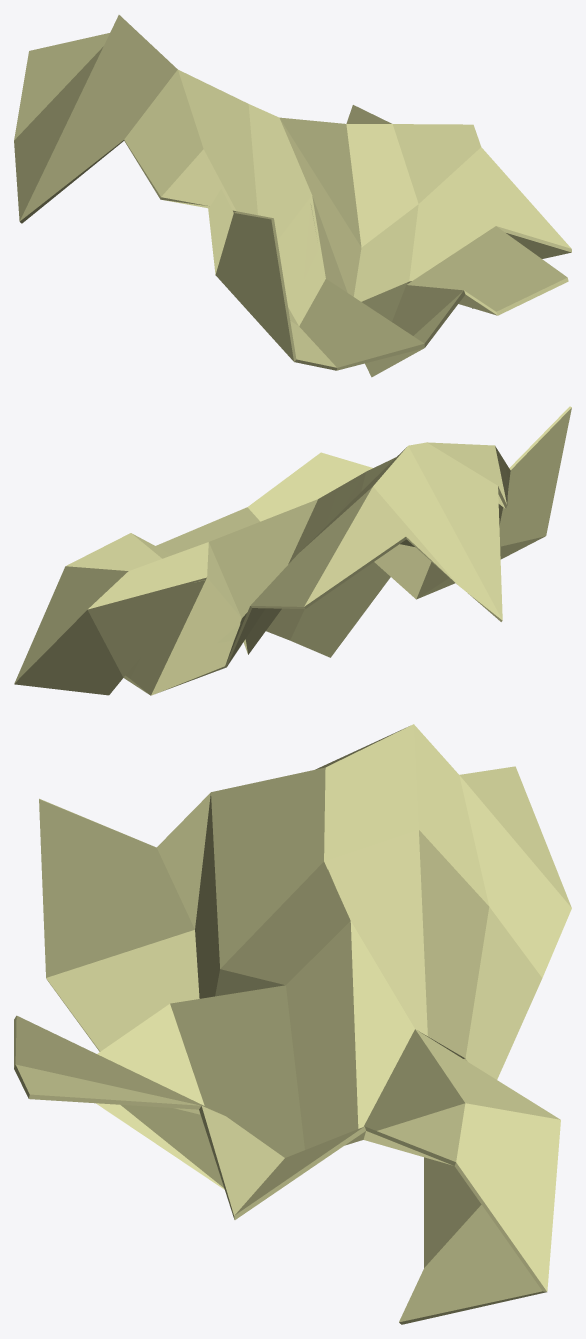
The model's file is Paper3.fbx.
3 renders of one model, top to bottom at view 1: azimuth 30°, elevation 25°; view 2: azimuth 150°, elevation 25°; view 3: azimuth 270°, elevation 25°, orthographic. The views are drawn at different scales.
Visible parts, largest first — view 1: Plane.002; view 2: Plane.002; view 3: Plane.002.
Part boxes in pixels (<box>): Plane.002: <box>14,15,571,377</box>; Plane.002: <box>14,406,571,695</box>; Plane.002: <box>14,724,571,1324</box>.
Bounding box in the file's own units: 1579 × 1143 × 1398.
